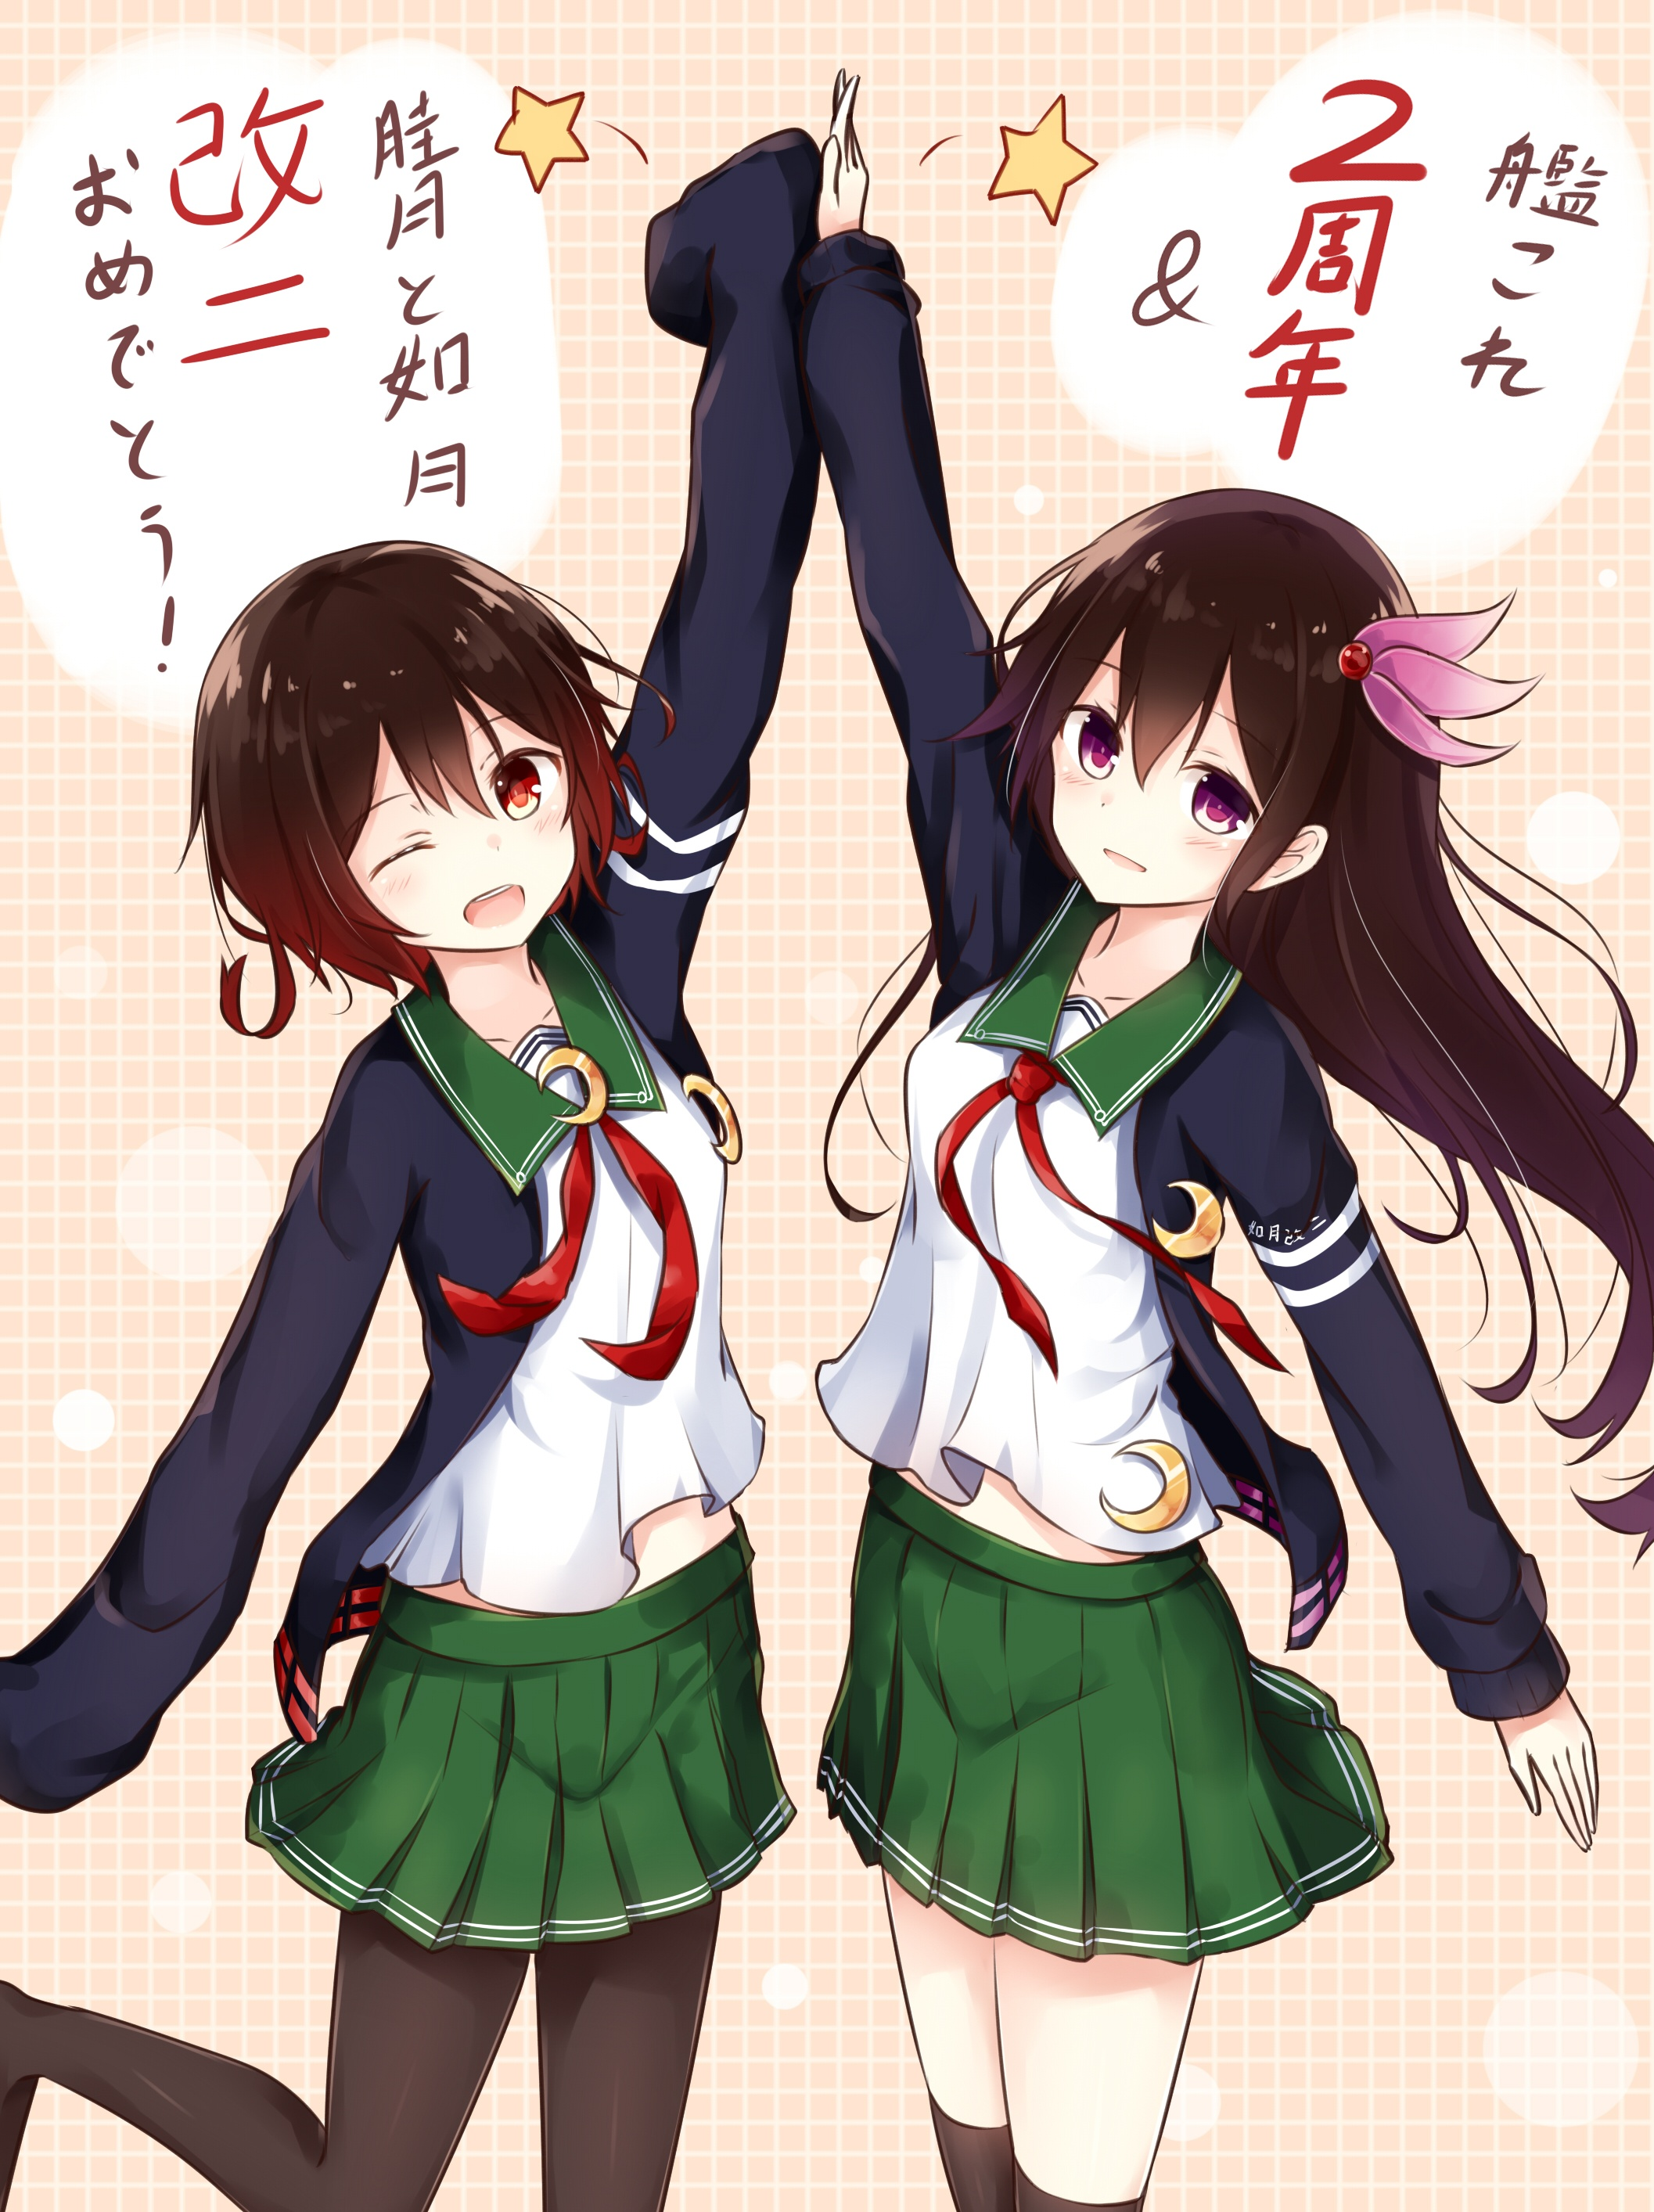纸片人正脸: (192, 535, 645, 982), (982, 487, 1398, 930)
